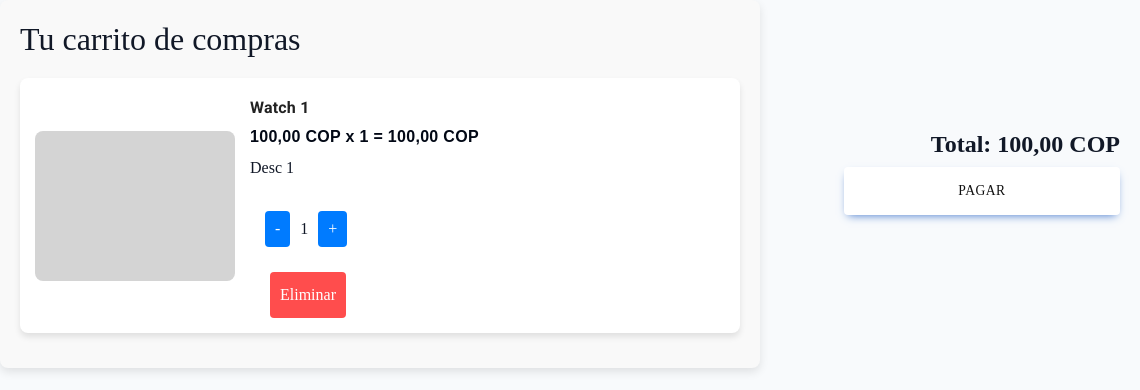
Test case: Cart integration › modificar cantidad y eliminar producto
Click the button "Eliminar" at x=308, y=295, box left=270, top=272, right=346, bottom=318
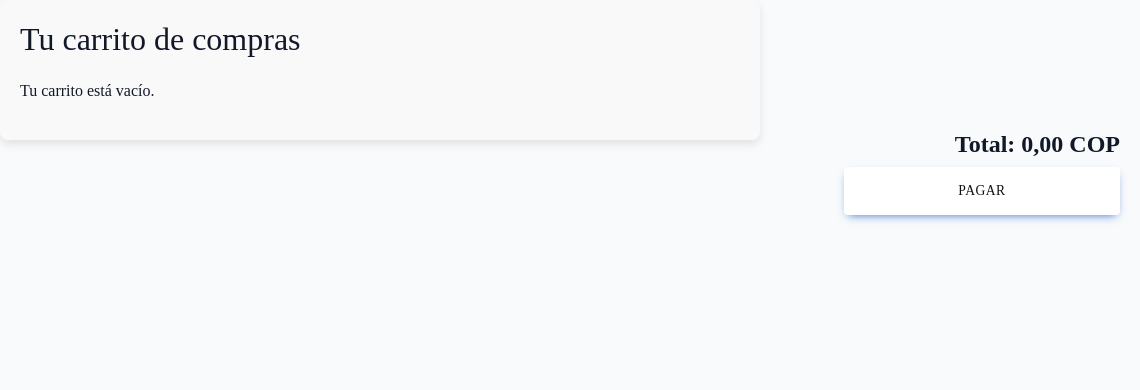
Now the text "Watch 1" is gone
